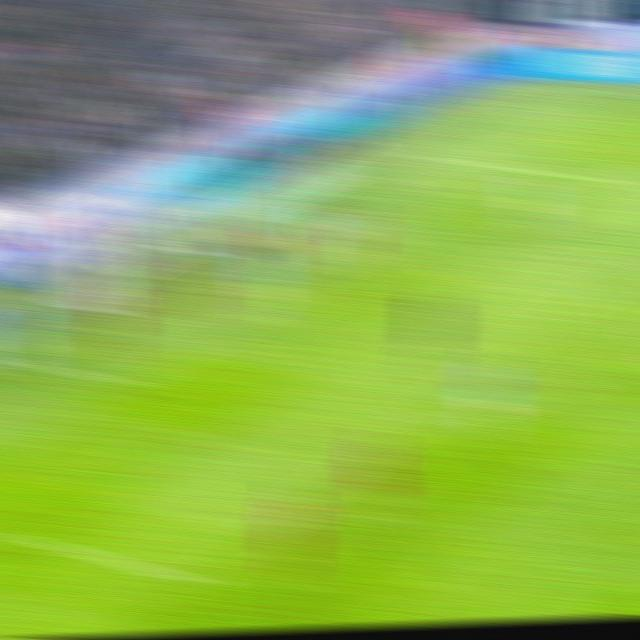bigarea_bottom_inner: (172, 561, 220, 600)
bigarea_top_outter: (390, 142, 430, 164)
bottom_arc_area_intersection: (394, 405, 438, 433)
corner: (516, 76, 560, 96)
smallarea_bottom_inner: (106, 365, 152, 400)
smallarea_top_inner: (364, 222, 406, 249)
smallarea_top_outter: (264, 207, 302, 229)
top_arc_area_intersection: (582, 273, 624, 300)
